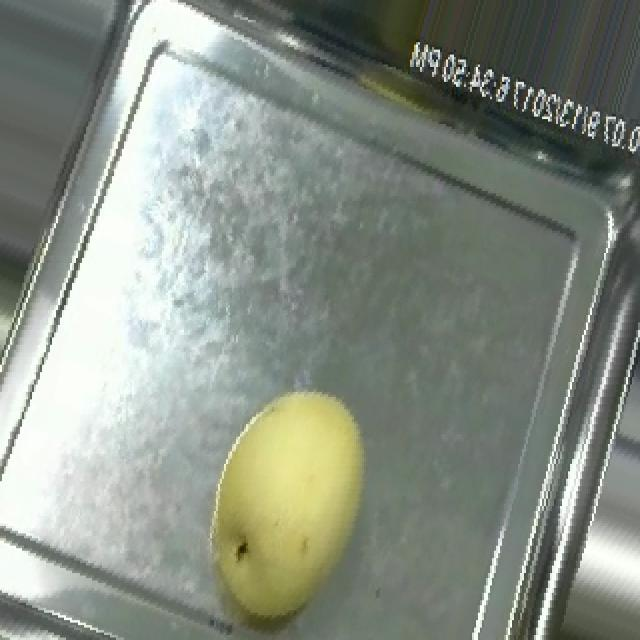Fruit: (164, 357, 402, 640)
